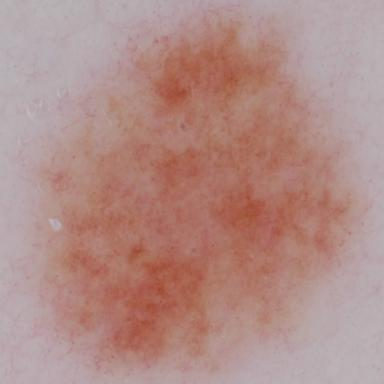nevus: (39, 9, 354, 368)
